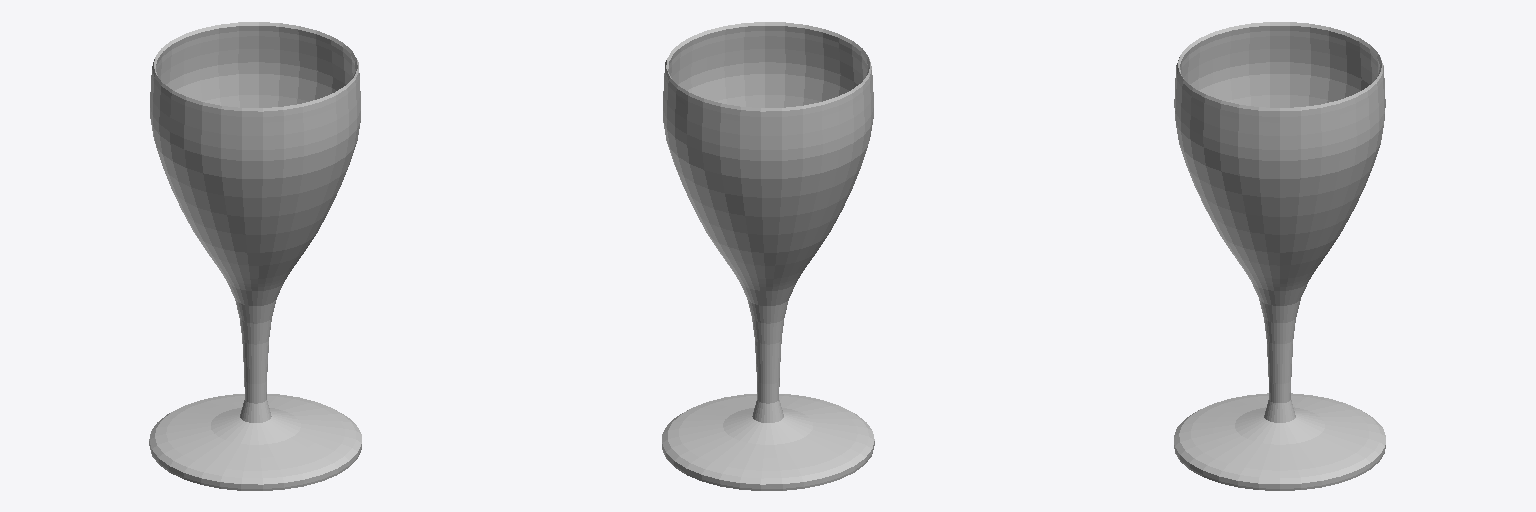
Rendered from wine.obj.
3 views of the same model, side by side, from view 1: azimuth 30°, elevation 25°; view 2: azimuth 150°, elevation 25°; view 3: azimuth 270°, elevation 25° (orthographic).
Bounding box in the file's own units: 0.6944 × 1.38 × 0.6953.